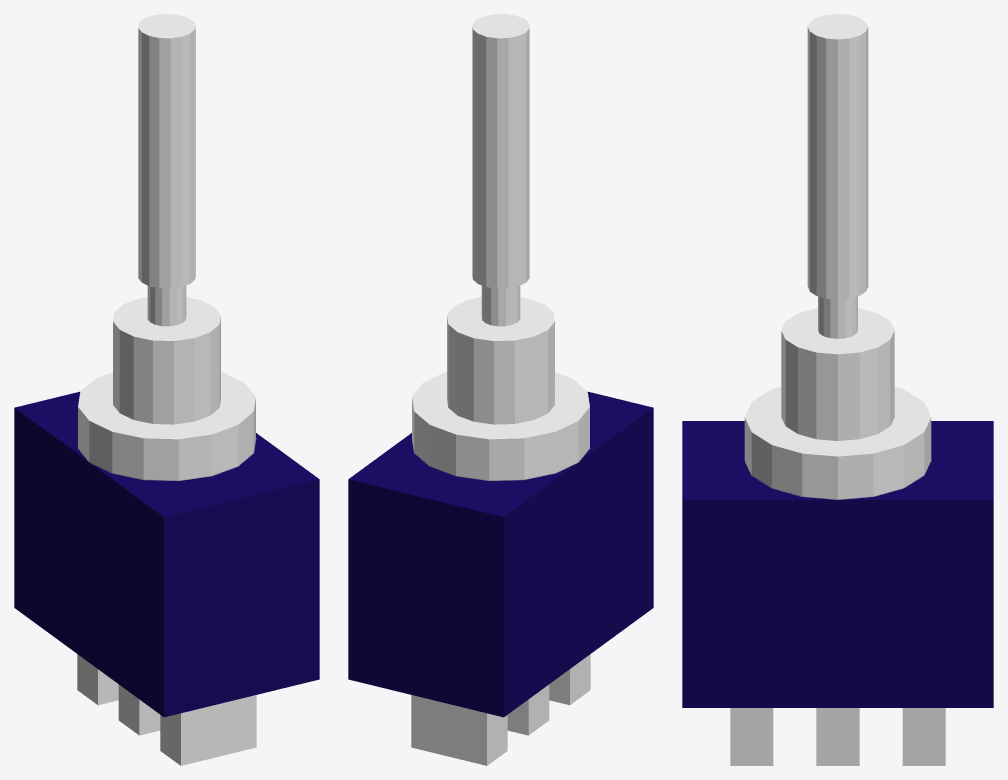
Rendered from SM_Switch.fbx.
3 renders of one model, left to right at view 1: azimuth 30°, elevation 25°; view 2: azimuth 150°, elevation 25°; view 3: azimuth 270°, elevation 25°, orthographic. The views are drawn at different scales.
Parts seen in each view (by area): view 1: Switch; view 2: Switch; view 3: Switch.
Part boxes in pixels (x1,y1,x2,y2): Switch: [14, 14, 319, 765]; Switch: [348, 14, 653, 765]; Switch: [682, 14, 993, 765].
Size of the model in its own units: 0.78 by 3.32 by 1.3.
Materials: 1 (1 with a texture image).
